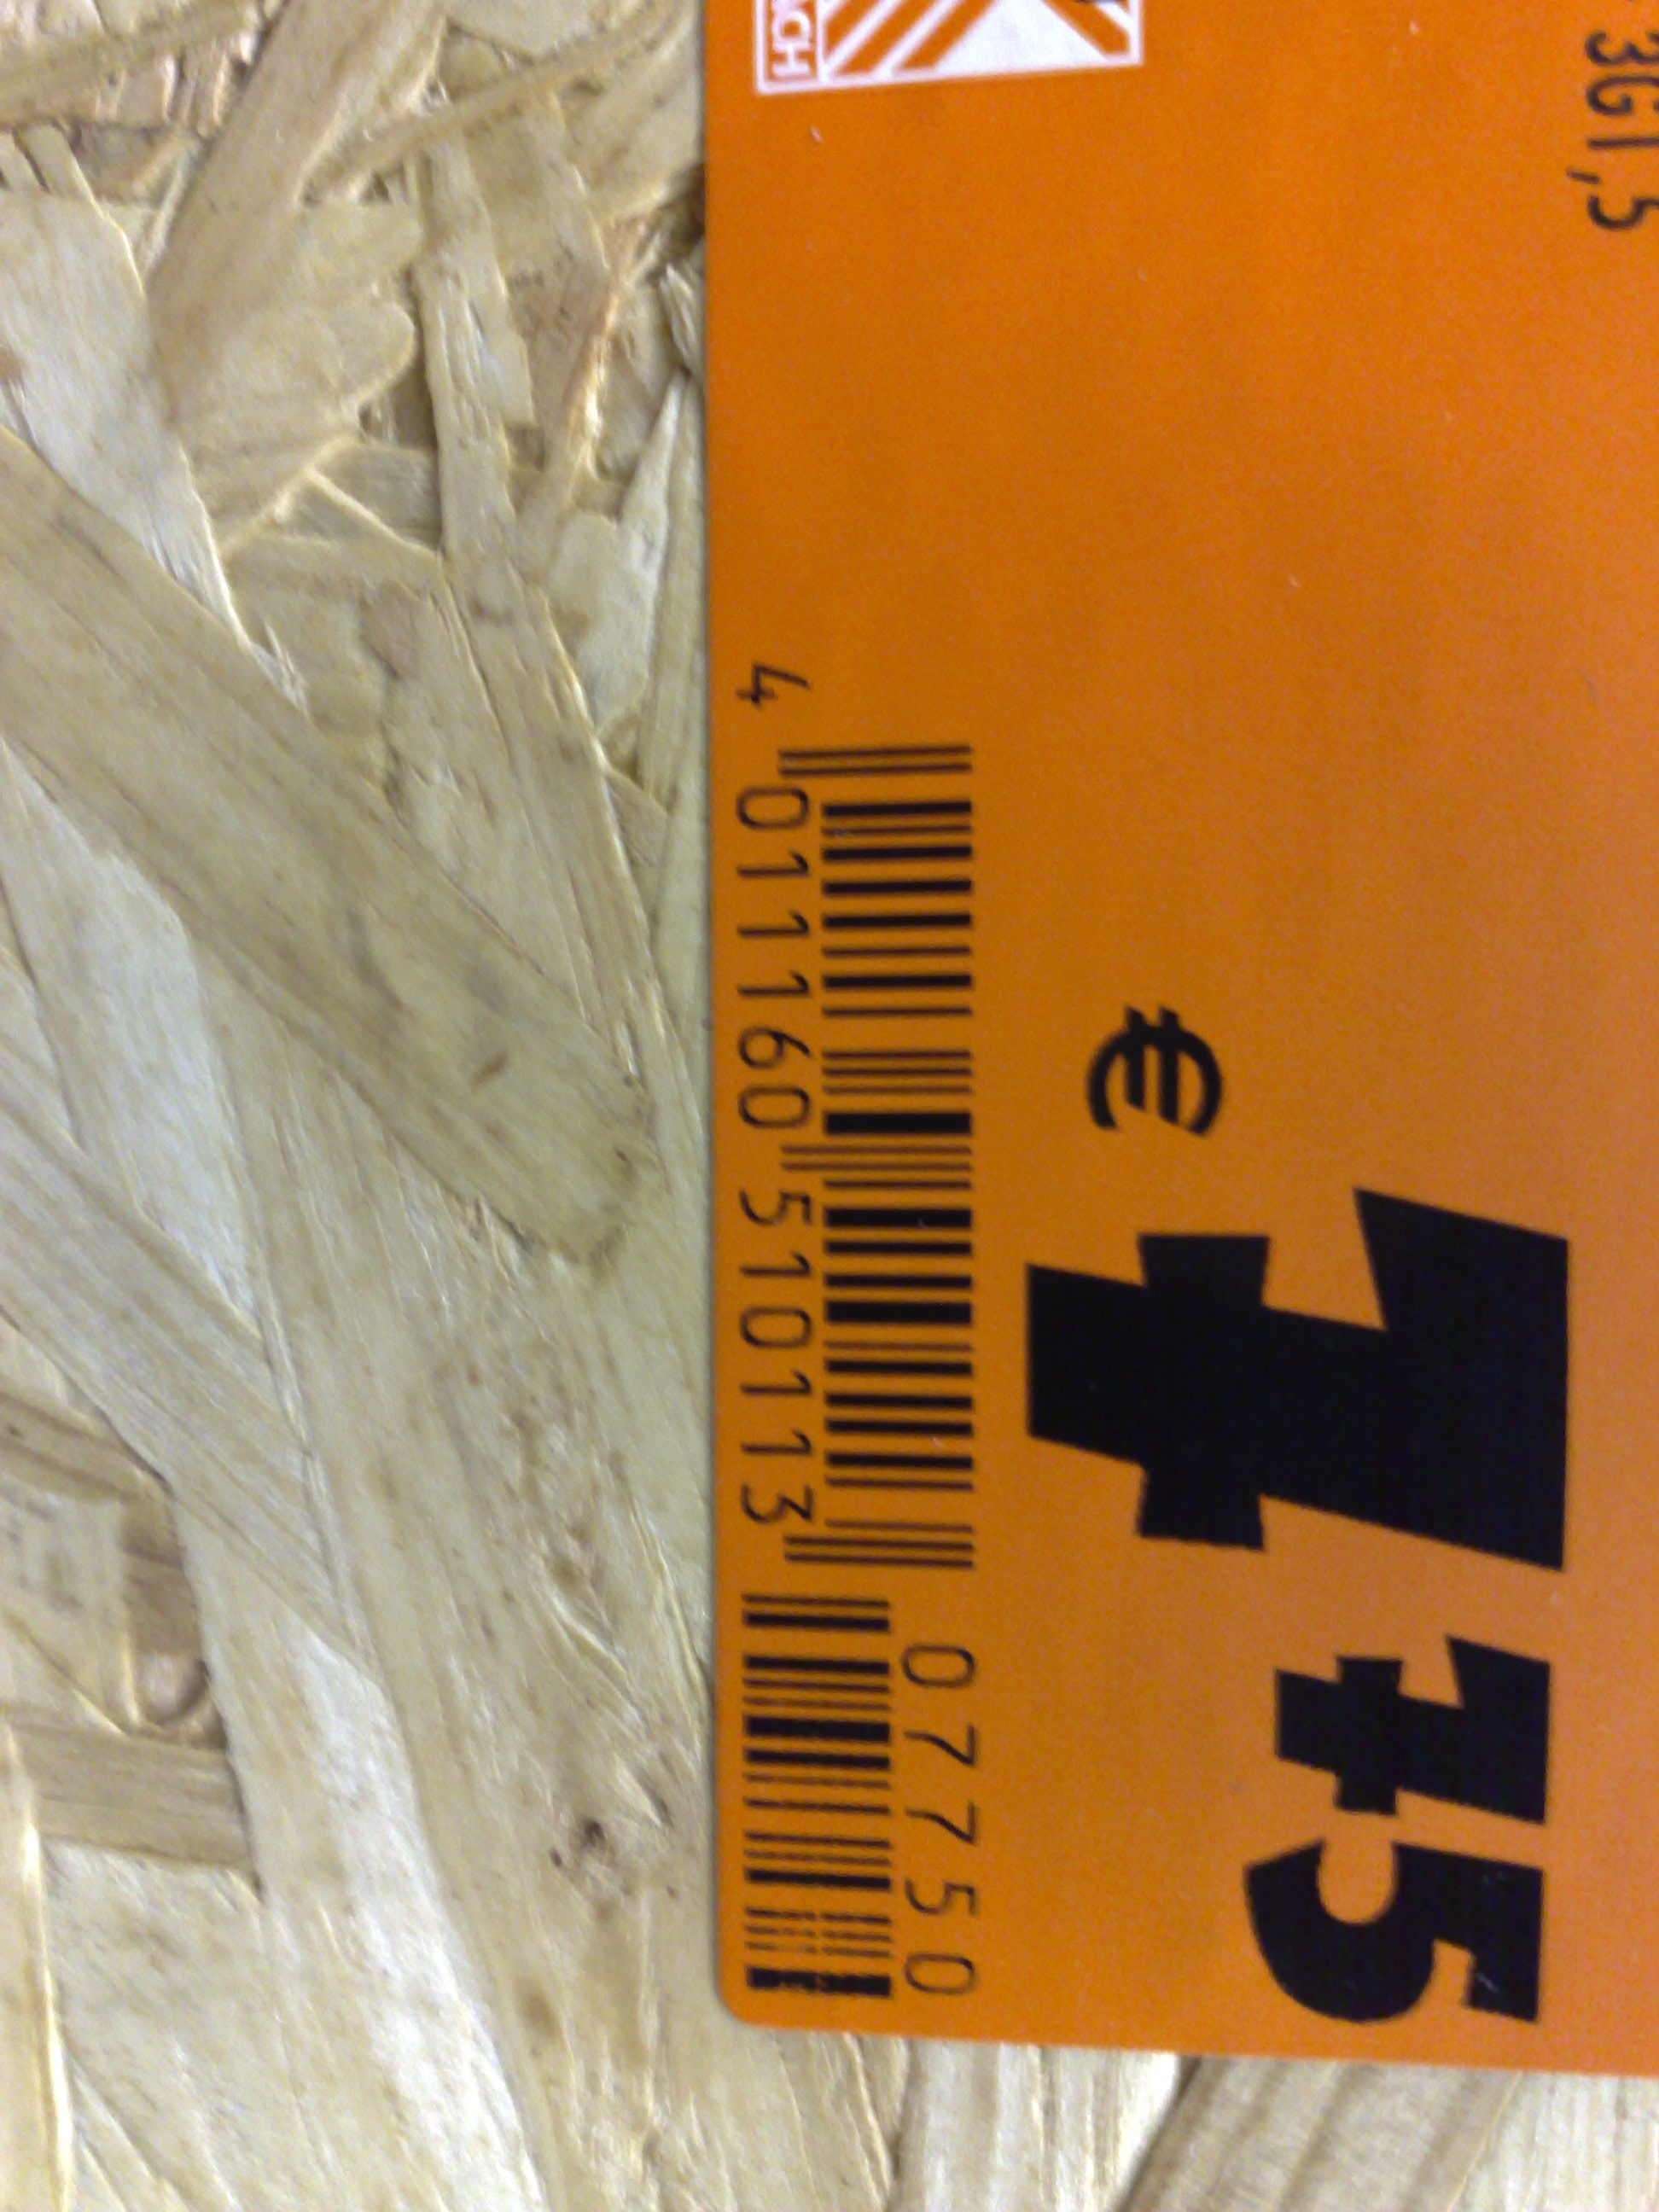barcode: (821, 726, 986, 1576), (742, 1585, 899, 2003)
